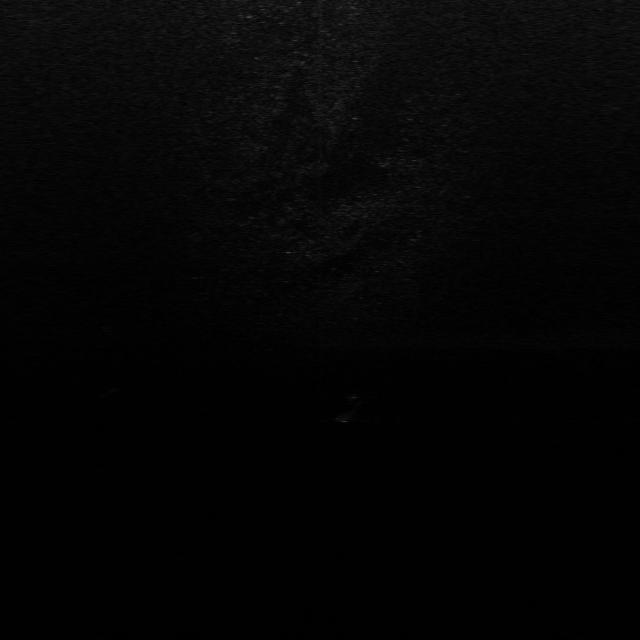tyre: (334, 393, 364, 424)
